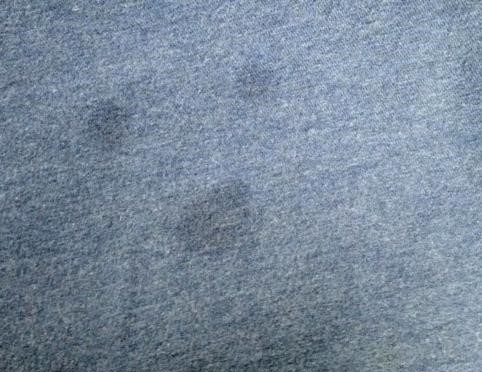stain: (176, 175, 267, 263), (77, 96, 139, 155), (230, 58, 280, 104)
